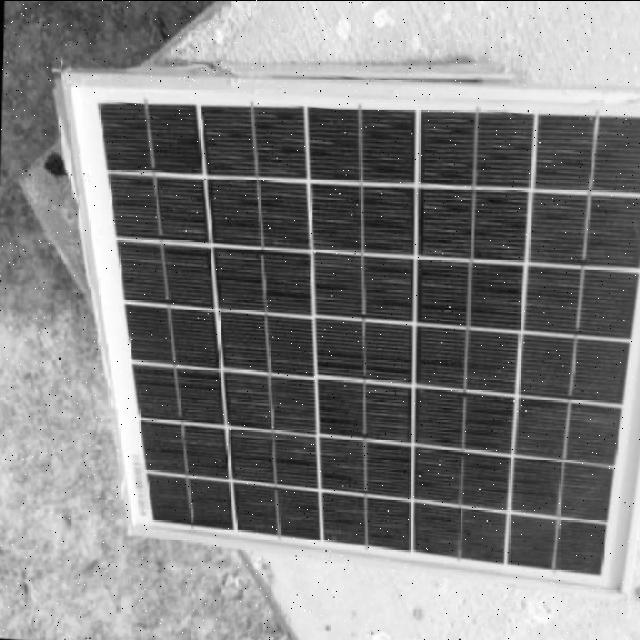Normal Solar Panel: (45, 56, 640, 594)
